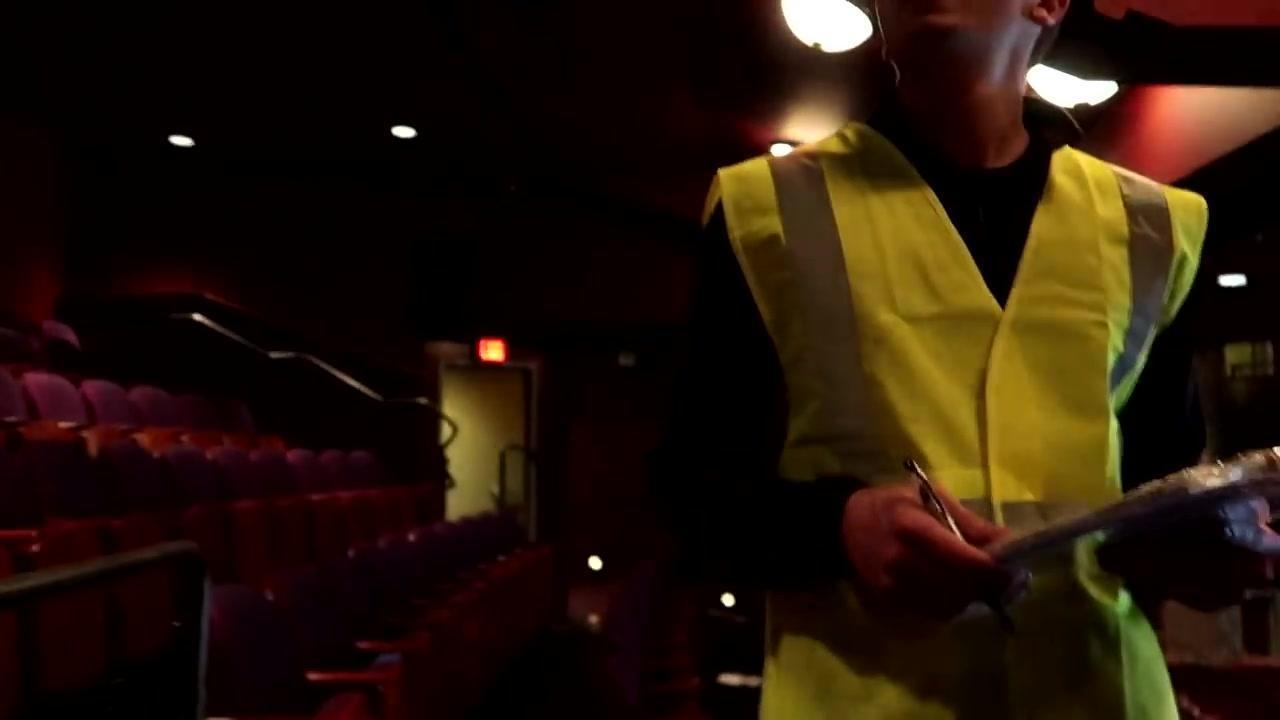Glass: (707, 114, 1211, 572)
